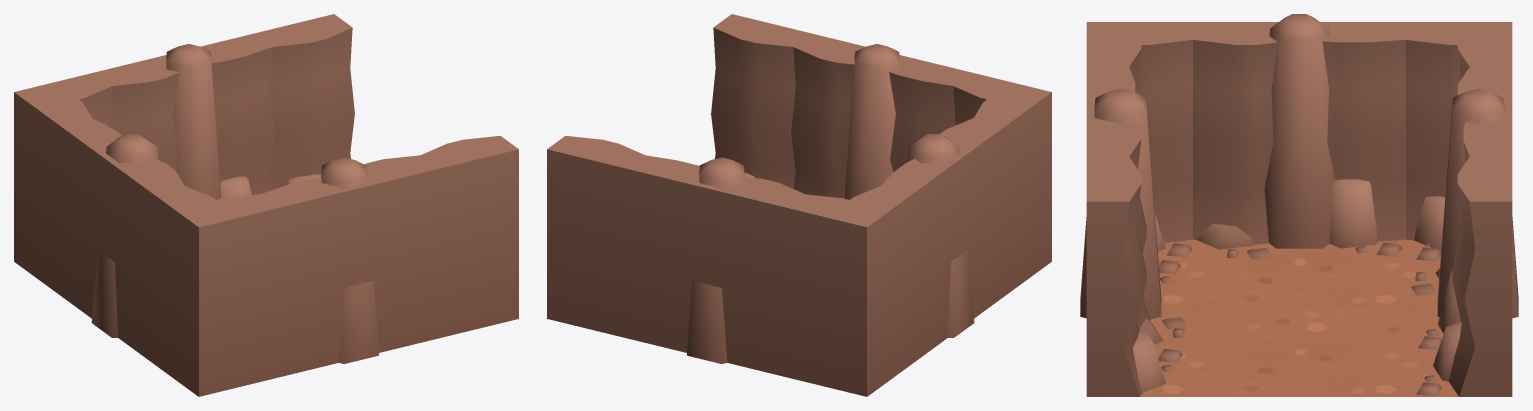
Rendered from corridor_wide_end.glb.
The picture shows the model from 3 angles, left to right: view 1: azimuth 30°, elevation 25°; view 2: azimuth 150°, elevation 25°; view 3: azimuth 270°, elevation 25°; orthographic projection. The views are drawn at different scales.
Parts seen in each view (by area): view 1: corridor-wide-end; view 2: corridor-wide-end; view 3: corridor-wide-end.
Part boxes in pixels (box(x1,y1,x2,y2)): corridor-wide-end: box(14, 14, 518, 396); corridor-wide-end: box(547, 14, 1051, 396); corridor-wide-end: box(1080, 14, 1518, 396).
Bounding box in the file's own units: 8.12 × 4.4 × 8.23.
Materials: 1 (1 with a texture image).
